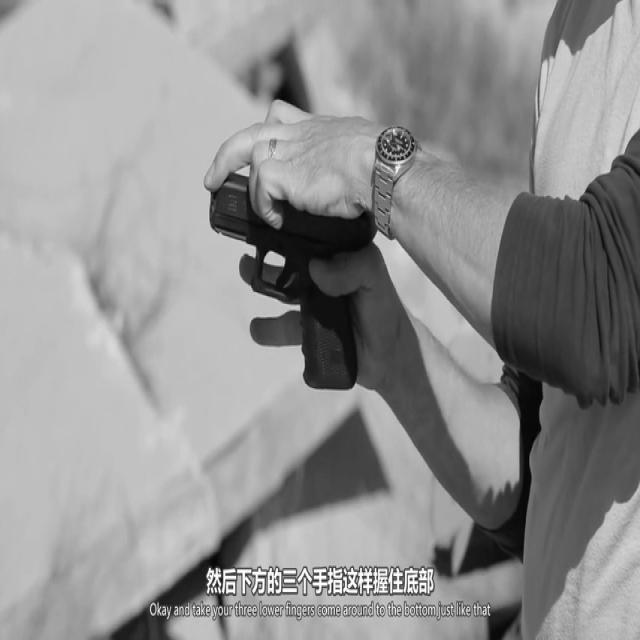Hand-Gun: (185, 69, 440, 464)
